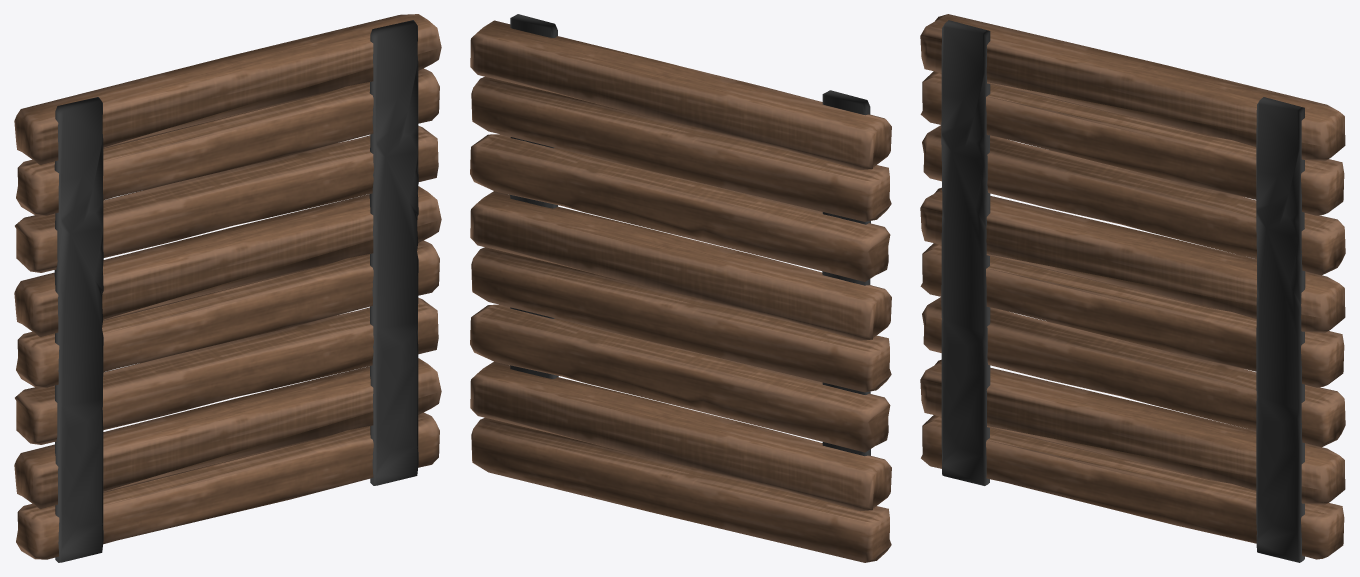
File: SM_metal_reinforced_woodwall.fbx
The picture shows the model from 3 angles, left to right: view 1: azimuth 30°, elevation 25°; view 2: azimuth 150°, elevation 25°; view 3: azimuth 330°, elevation 25°; orthographic projection.
Parts seen in each view (by area): view 1: metal_reinforced_woodwall; view 2: metal_reinforced_woodwall; view 3: metal_reinforced_woodwall.
Boxes of the visible parts, bbox=[...] form: metal_reinforced_woodwall: bbox=[14, 14, 441, 562]; metal_reinforced_woodwall: bbox=[470, 14, 891, 562]; metal_reinforced_woodwall: bbox=[920, 14, 1345, 562].
Size of the model in its own units: 321 by 342 by 34.19.
